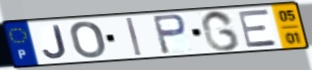E: (236, 8, 280, 49)
G: (199, 9, 242, 53)
I: (124, 17, 144, 57)
J: (41, 24, 69, 60)
O: (69, 20, 108, 60)
P: (150, 12, 189, 55)
